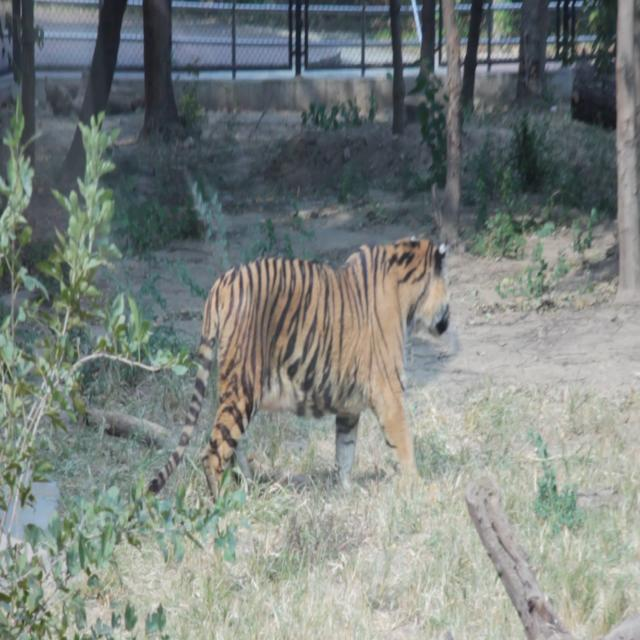Tiger: (152, 186, 483, 631)
